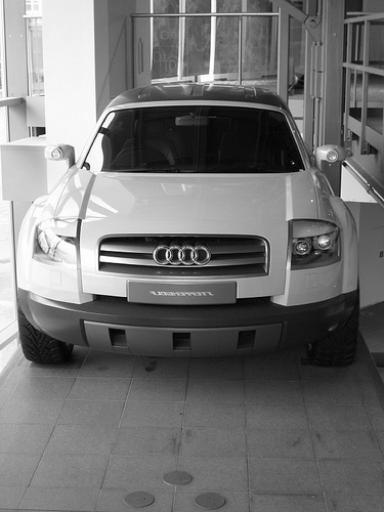Cheetah: (0, 66, 370, 378)
